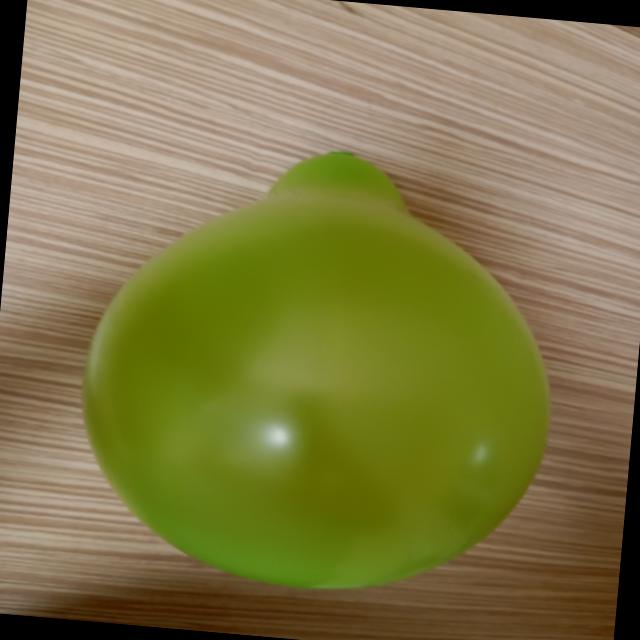balloon: (82, 153, 549, 589)
